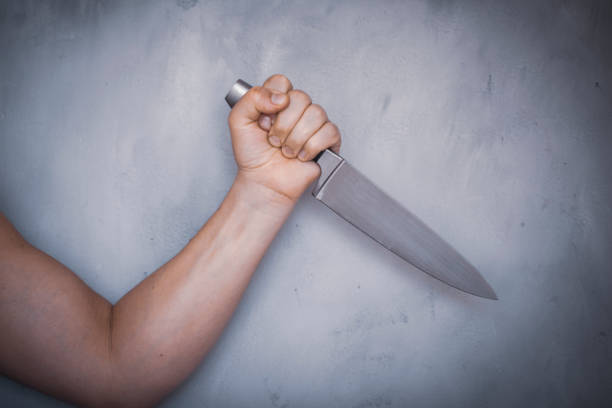knife: (222, 76, 500, 303)
